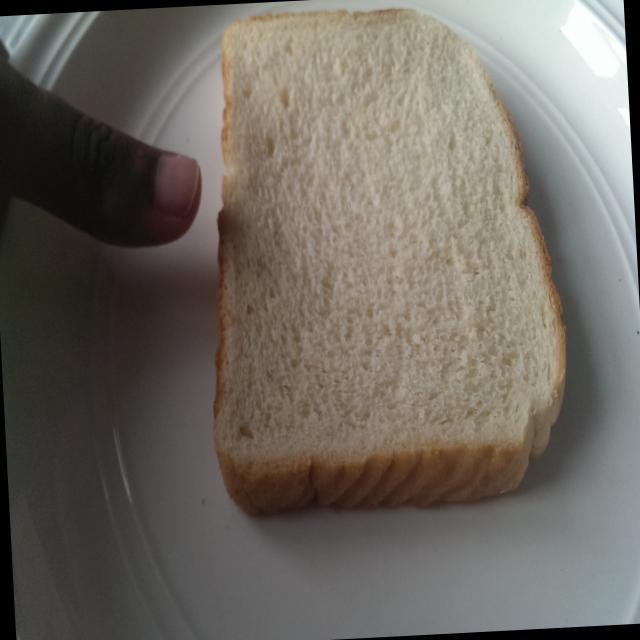Bread: (193, 0, 580, 529)
Finger: (49, 76, 212, 270)
